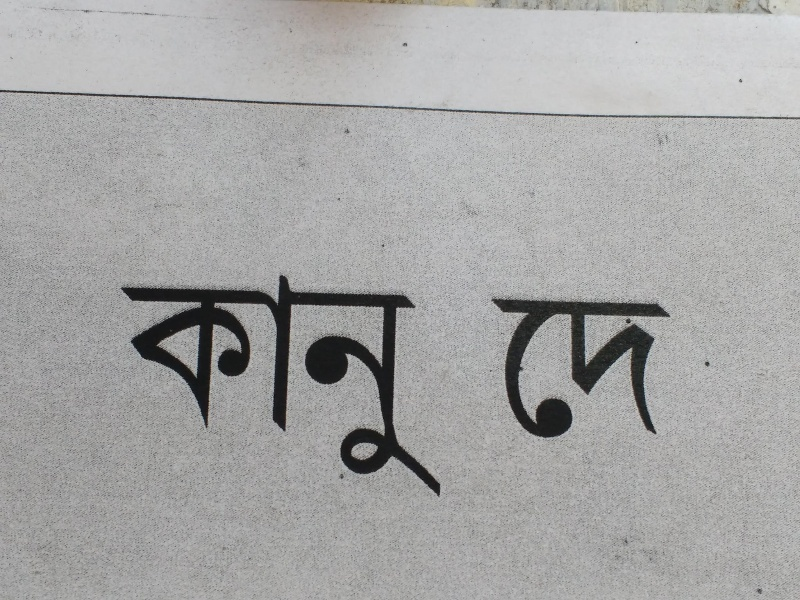text: (129, 260, 144, 507), (145, 260, 160, 507), (161, 260, 176, 507), (177, 260, 192, 507), (193, 260, 208, 507), (209, 260, 224, 507), (225, 260, 240, 507), (241, 260, 256, 507), (257, 260, 272, 507), (273, 260, 288, 507), (289, 260, 304, 507), (305, 260, 320, 507), (321, 260, 336, 507), (337, 260, 352, 507), (353, 260, 368, 507), (369, 260, 384, 507), (385, 260, 400, 507), (401, 260, 416, 507), (417, 260, 432, 507), (433, 260, 447, 507), (116, 260, 128, 507), (497, 288, 512, 449), (513, 288, 528, 449), (529, 288, 544, 449), (545, 288, 560, 449), (561, 288, 576, 449), (577, 288, 592, 449), (593, 288, 608, 449), (609, 288, 624, 449), (625, 288, 640, 449), (641, 288, 656, 449), (657, 288, 672, 449), (673, 288, 679, 449), (491, 288, 496, 449)
